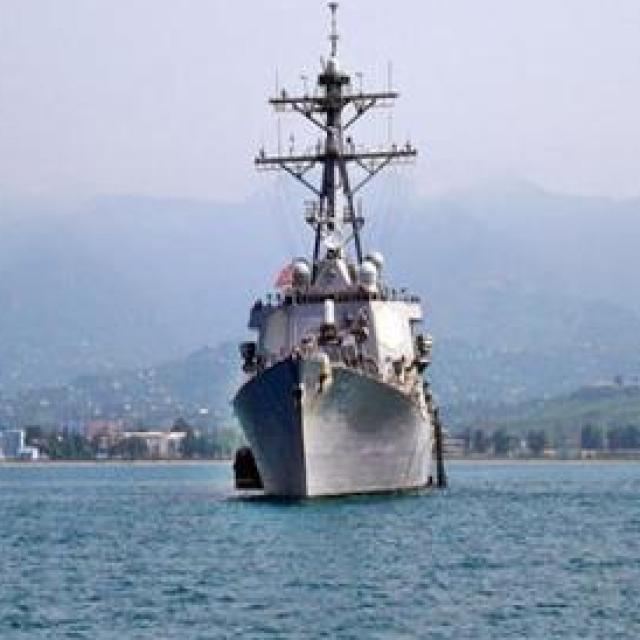navalvessels: (211, 0, 448, 500)
